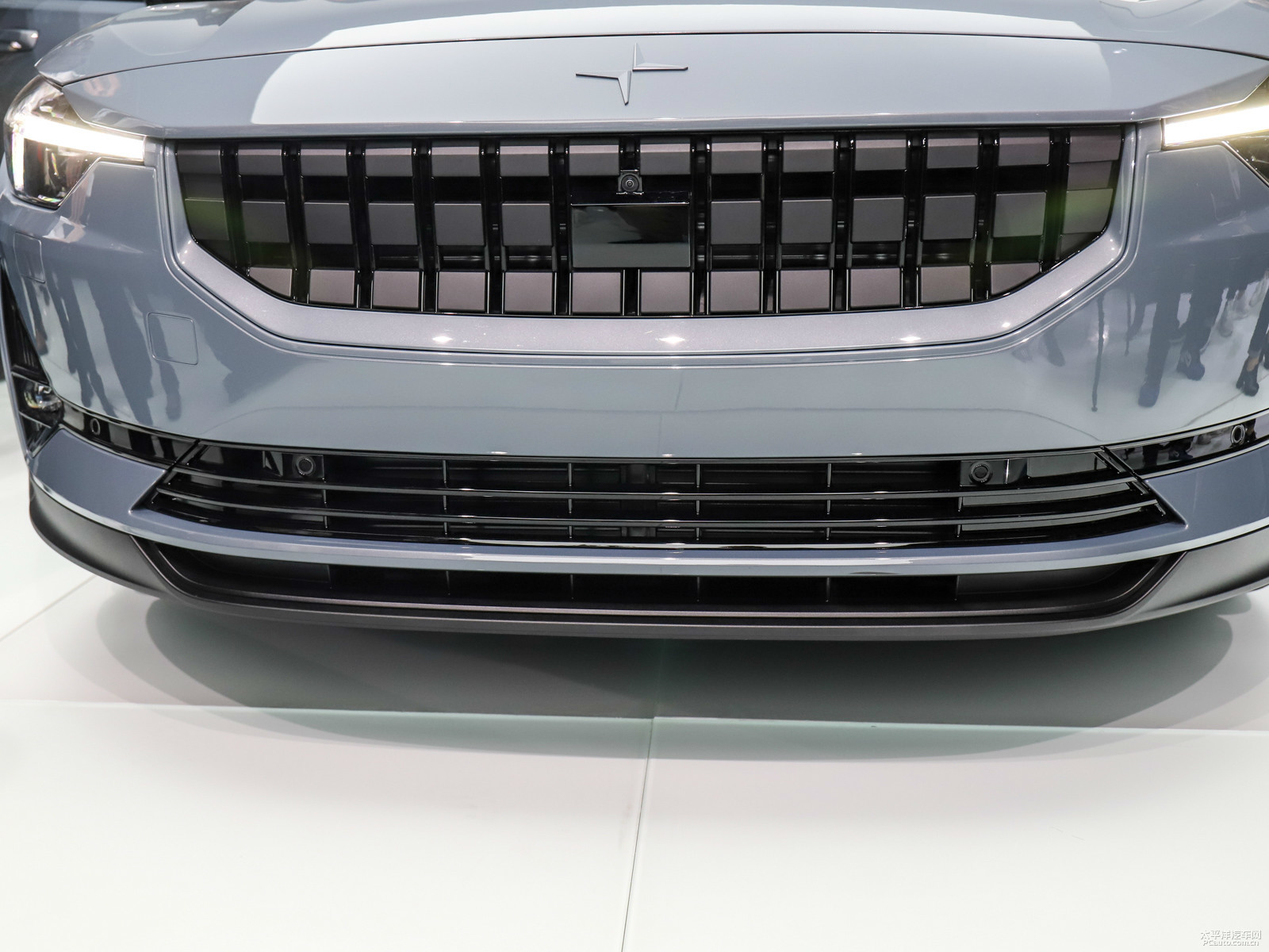Polestar: (576, 44, 688, 105)
